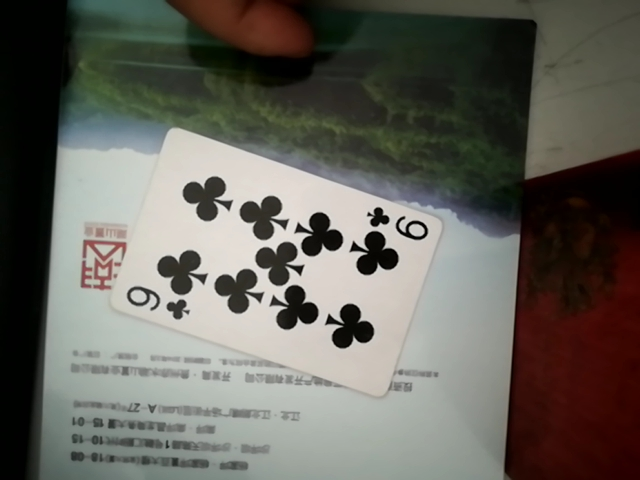mh 9: (76, 119, 446, 396)
